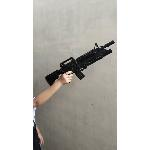Senapan: (44, 39, 116, 89)
